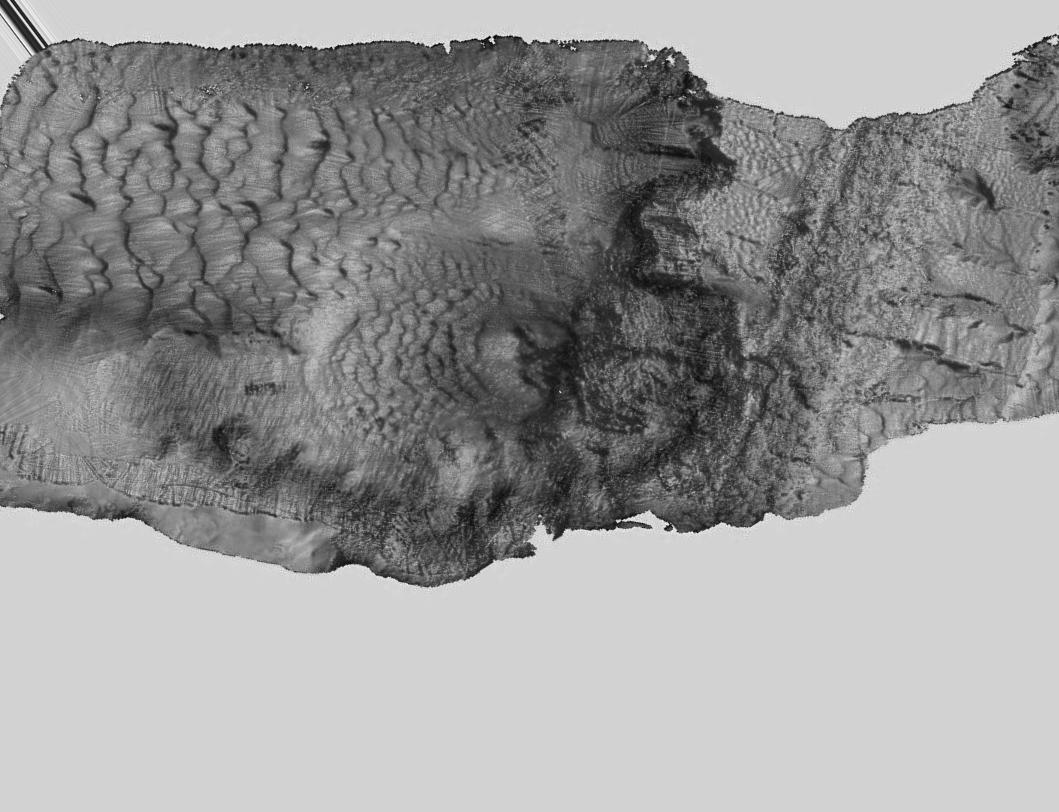Dune: (17, 85, 455, 322), (342, 259, 467, 410)
Scarp: (271, 449, 815, 644)
Scour pit: (462, 284, 636, 443)
Submerged dike: (760, 113, 888, 516)
